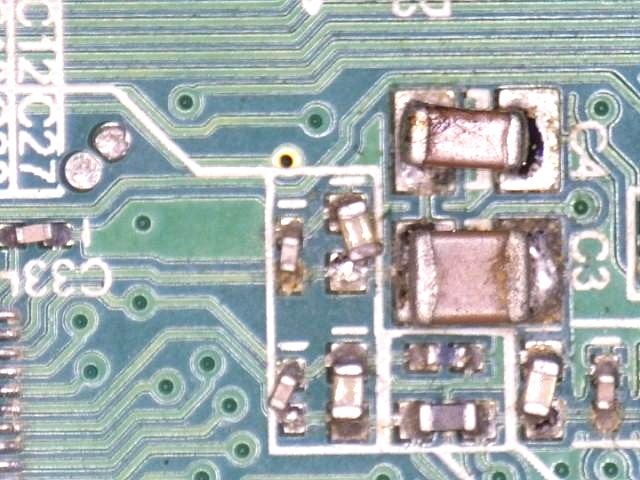pcb_defect: (327, 193, 384, 293), (522, 339, 565, 440), (266, 357, 307, 434)
